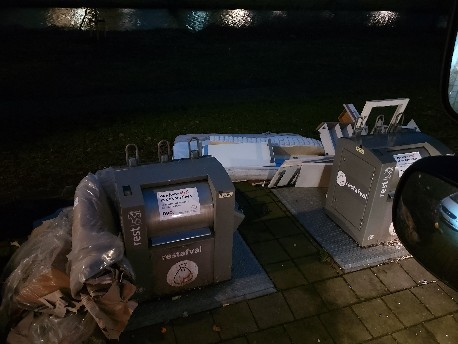Container: (119, 168, 270, 291), (326, 151, 408, 249)
Plastic: (43, 187, 127, 286), (2, 225, 63, 311), (25, 312, 100, 340)
Rest: (175, 127, 305, 171), (329, 113, 405, 141)
